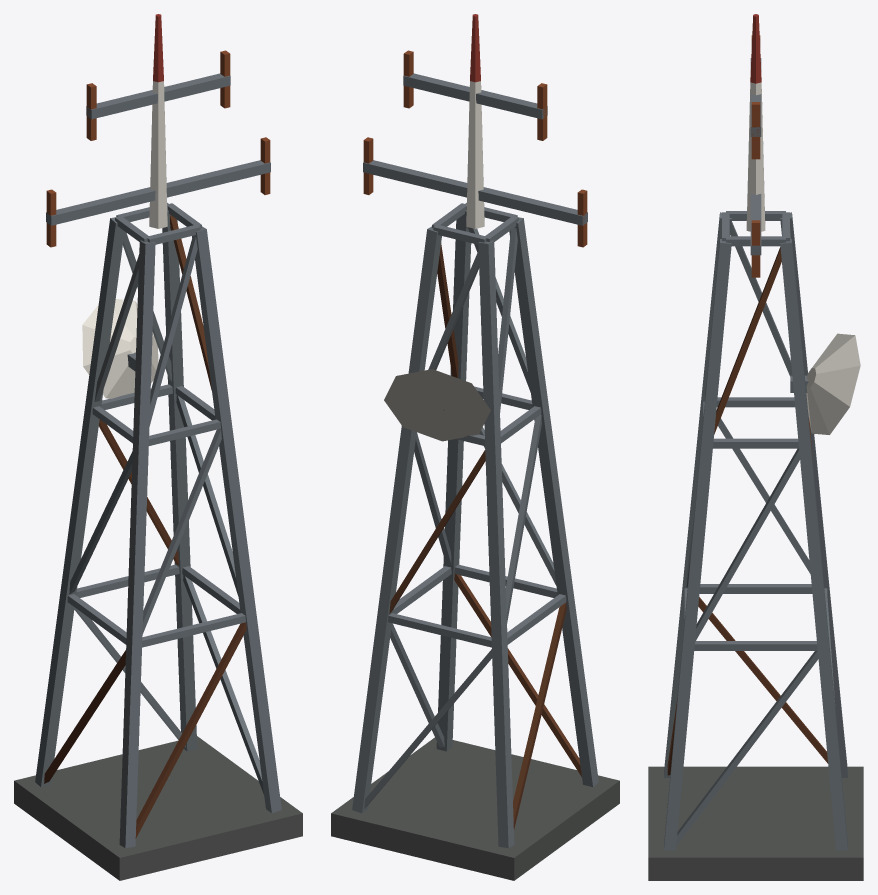
Rendered from roof_antenna.glb.
3 views of the same model, side by side, from view 1: azimuth 30°, elevation 25°; view 2: azimuth 150°, elevation 25°; view 3: azimuth 270°, elevation 25° (orthographic).
Parts seen in each view (by area): view 1: roof_antenna; view 2: roof_antenna; view 3: roof_antenna.
Boxes of the visible parts, left/top/right/bottom form: roof_antenna: left=14, top=14, right=302, bottom=880; roof_antenna: left=331, top=14, right=619, bottom=880; roof_antenna: left=648, top=14, right=863, bottom=880.
Size of the model in its own units: 1.2 by 4.2 by 1.
Materials: 3 (3 with a texture image).
